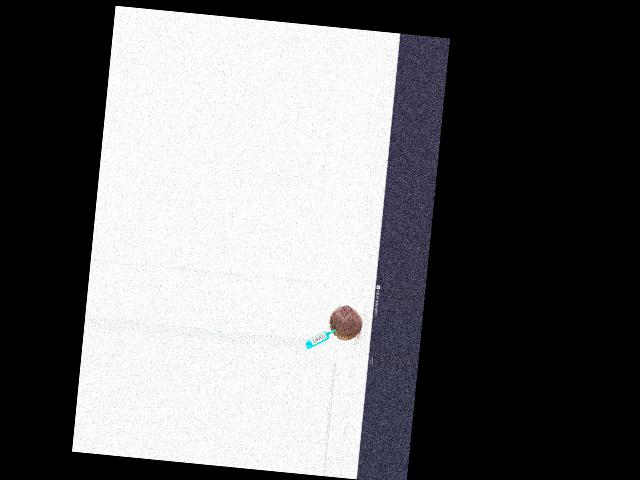beet: (327, 304, 364, 341)
